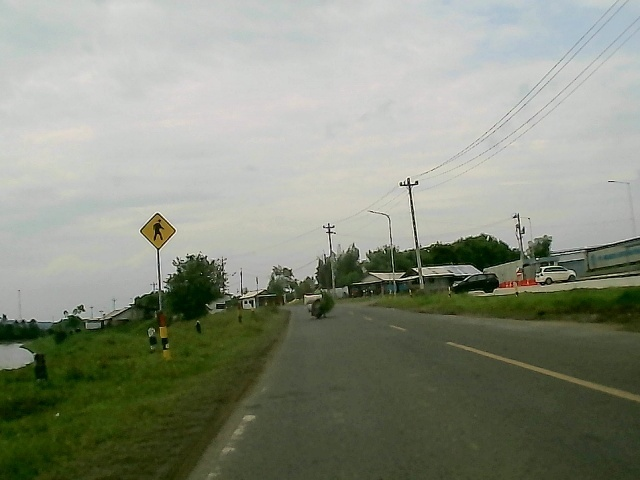Peringatan orang menyeberang: (140, 212, 176, 250)
